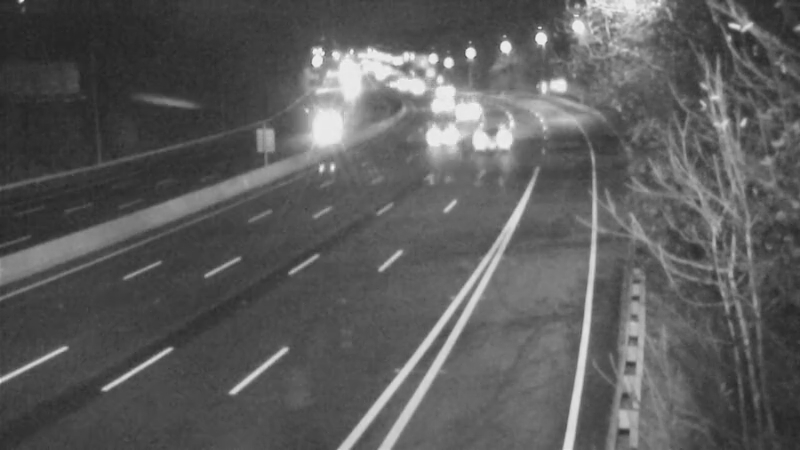vehicle: (418, 65, 468, 115), (410, 82, 460, 132), (439, 94, 489, 144), (421, 104, 471, 154), (471, 112, 521, 162), (291, 97, 341, 147)
